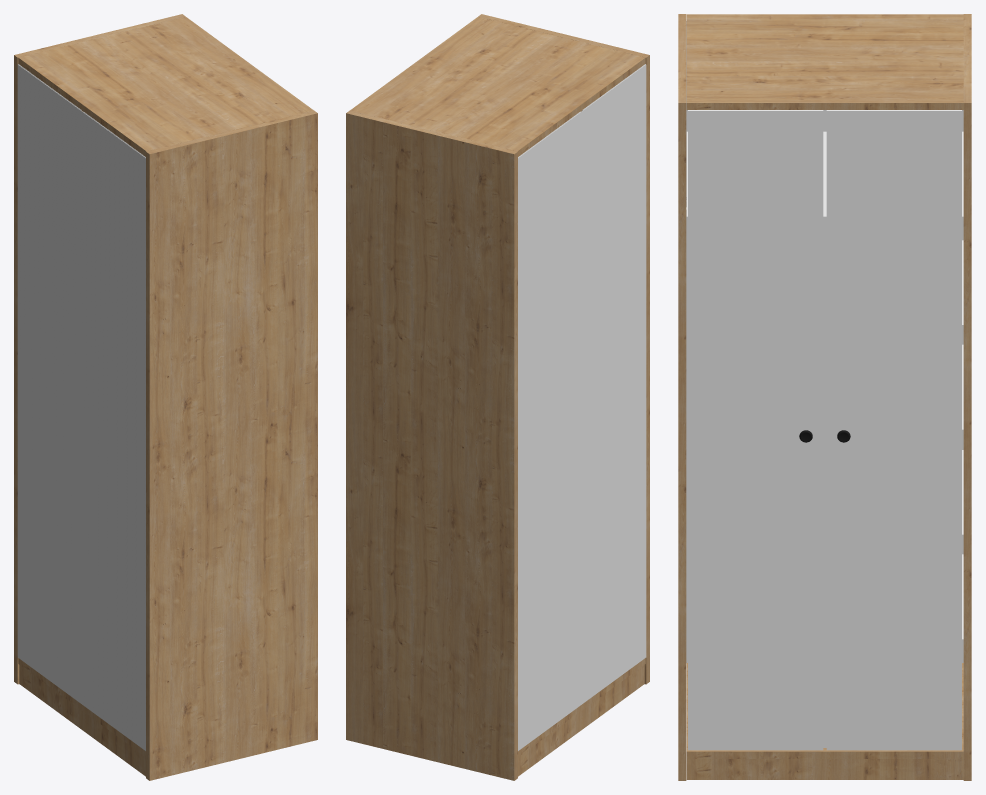
3 renders of one model, left to right at view 1: azimuth 30°, elevation 25°; view 2: azimuth 150°, elevation 25°; view 3: azimuth 270°, elevation 25°, orthographic. The views are drawn at different scales.
Visible parts, largest first — view 1: Box001, Box010, Box005, Box002, Box003, Box004; view 2: Box002, Box010, Box005, Box001, Box003, Box004; view 3: Box006, Box007, Box005, Box001, Box002, Box003, Box004, Box013, Box008, Box012.
Part boxes in pixels (x1,y1,x2,y2): Box001: [146, 110, 317, 780]; Box010: [17, 64, 145, 750]; Box005: [18, 17, 313, 156]; Box002: [14, 14, 185, 684]; Box003: [19, 665, 145, 776]; Box004: [18, 658, 145, 756]; Box002: [346, 110, 517, 780]; Box010: [518, 64, 646, 750]; Box005: [350, 17, 645, 156]; Box001: [478, 14, 649, 684]; Box003: [518, 665, 644, 776]; Box004: [518, 658, 645, 756]; Box006: [688, 110, 823, 750]; Box007: [826, 110, 961, 750]; Box005: [686, 14, 963, 109]; Box001: [678, 14, 686, 780]; Box002: [963, 14, 971, 780]; Box003: [686, 759, 963, 779]; Box004: [686, 663, 963, 758]; Box013: [823, 223, 826, 747]; Box008: [686, 21, 687, 662]; Box012: [686, 131, 963, 223].
Size of the model in its own units: 0.5456 by 1.85 by 0.7252.
20 materials, 5 textured.
